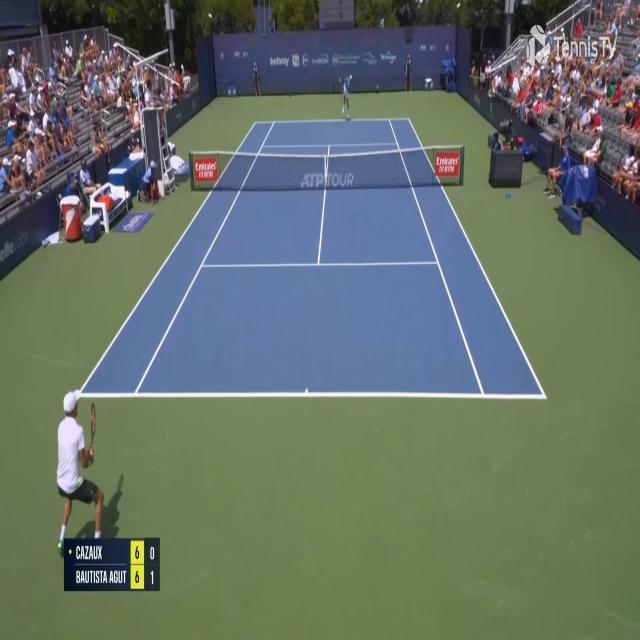tennis-player: (54, 323, 125, 554), (335, 72, 353, 119)
